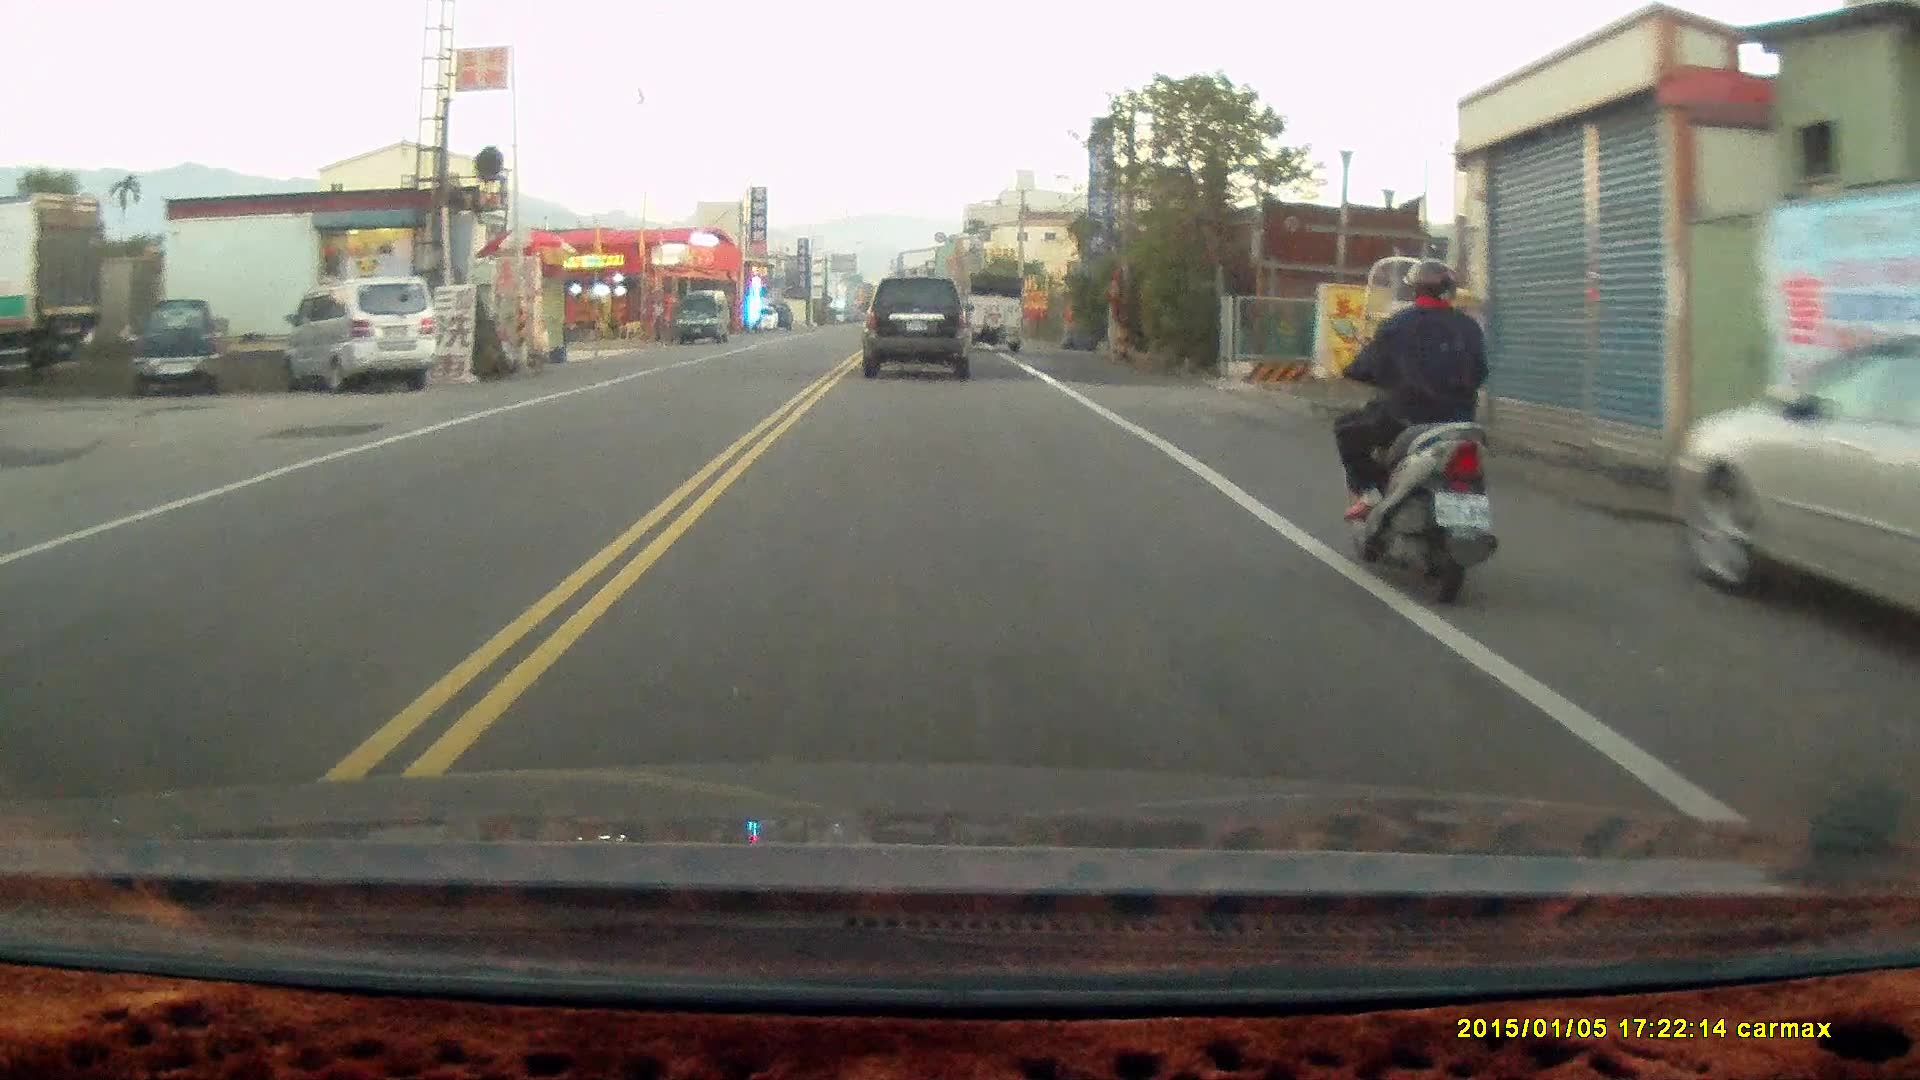rider: (1337, 257, 1506, 608)
vehicle: (1663, 323, 1919, 684), (284, 273, 437, 391), (861, 275, 979, 379), (136, 298, 217, 393), (965, 273, 1027, 353), (678, 291, 732, 345)
